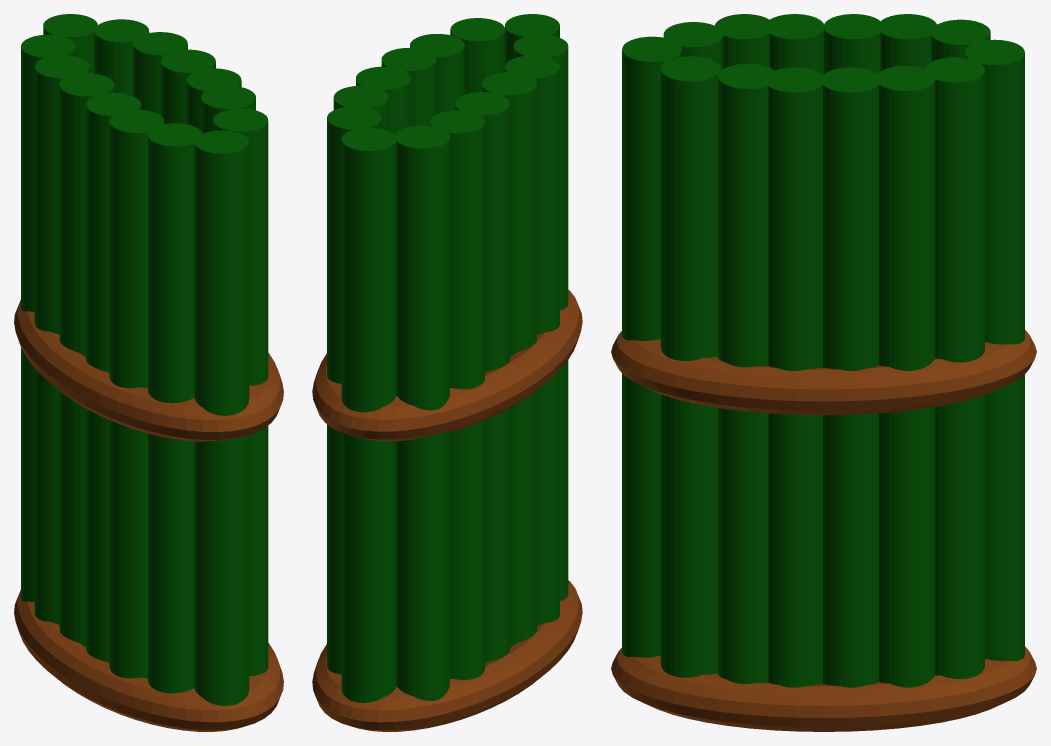
Rendered from bos.fbx.
3 views of the same model, side by side, from view 1: azimuth 30°, elevation 25°; view 2: azimuth 150°, elevation 25°; view 3: azimuth 270°, elevation 25° (orthographic). The views are drawn at different scales.
Parts seen in each view (by area): view 1: Cylinder.000, Cylinder.004, Torus, Torus.001; view 2: Cylinder.000, Cylinder.004, Torus, Torus.001; view 3: Cylinder.000, Cylinder.004, Torus, Torus.001.
Boxes of the visible parts, x1,y1,x2,y2 form: Cylinder.000: [21, 14, 268, 415]; Cylinder.004: [21, 347, 268, 705]; Torus: [14, 590, 283, 731]; Torus.001: [14, 300, 283, 441]; Cylinder.000: [327, 14, 568, 412]; Cylinder.004: [327, 360, 568, 702]; Torus: [312, 580, 582, 731]; Torus.001: [312, 290, 582, 441]; Cylinder.000: [622, 14, 1024, 370]; Cylinder.004: [622, 373, 1024, 687]; Torus: [611, 646, 1036, 731]; Torus.001: [611, 330, 1036, 415].
Bounding box in the file's own units: 424 × 1269 × 768.
